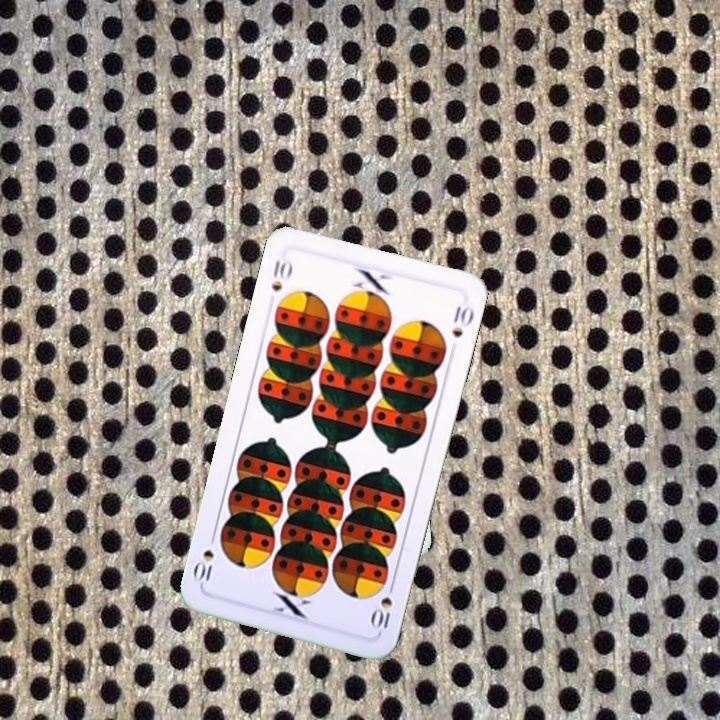S10: (368, 577, 398, 635), (267, 256, 295, 294)
